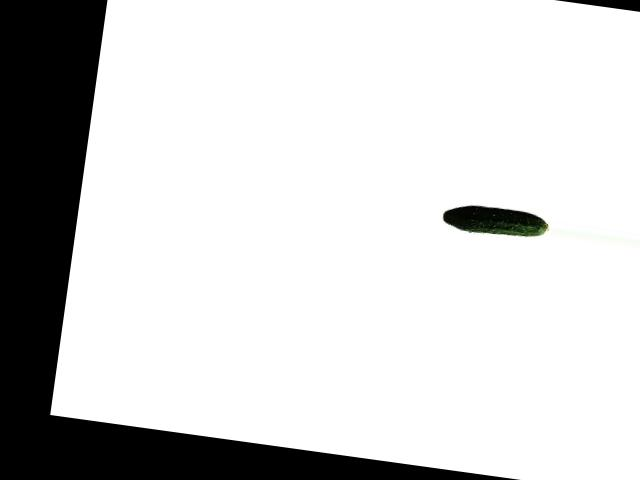cucumber: (441, 201, 549, 241)
